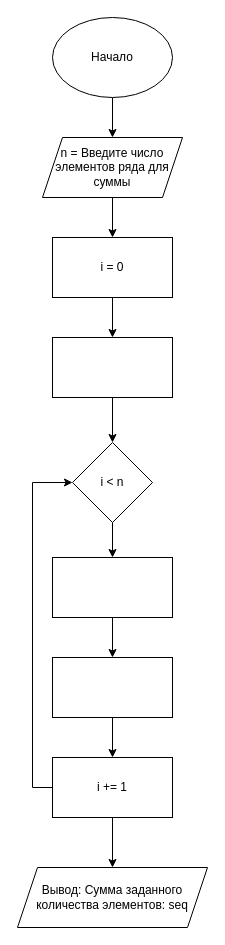
Some shapes in this 225 by 945 pixel diagram are drawn without their labels. Here are the shapes that lost their labels. From the top down, the centre of each, then its label:
At pixel 112 367: "seq = 1".
At pixel 112 587: "s = seq / -2".
At pixel 112 687: "seq += s".
